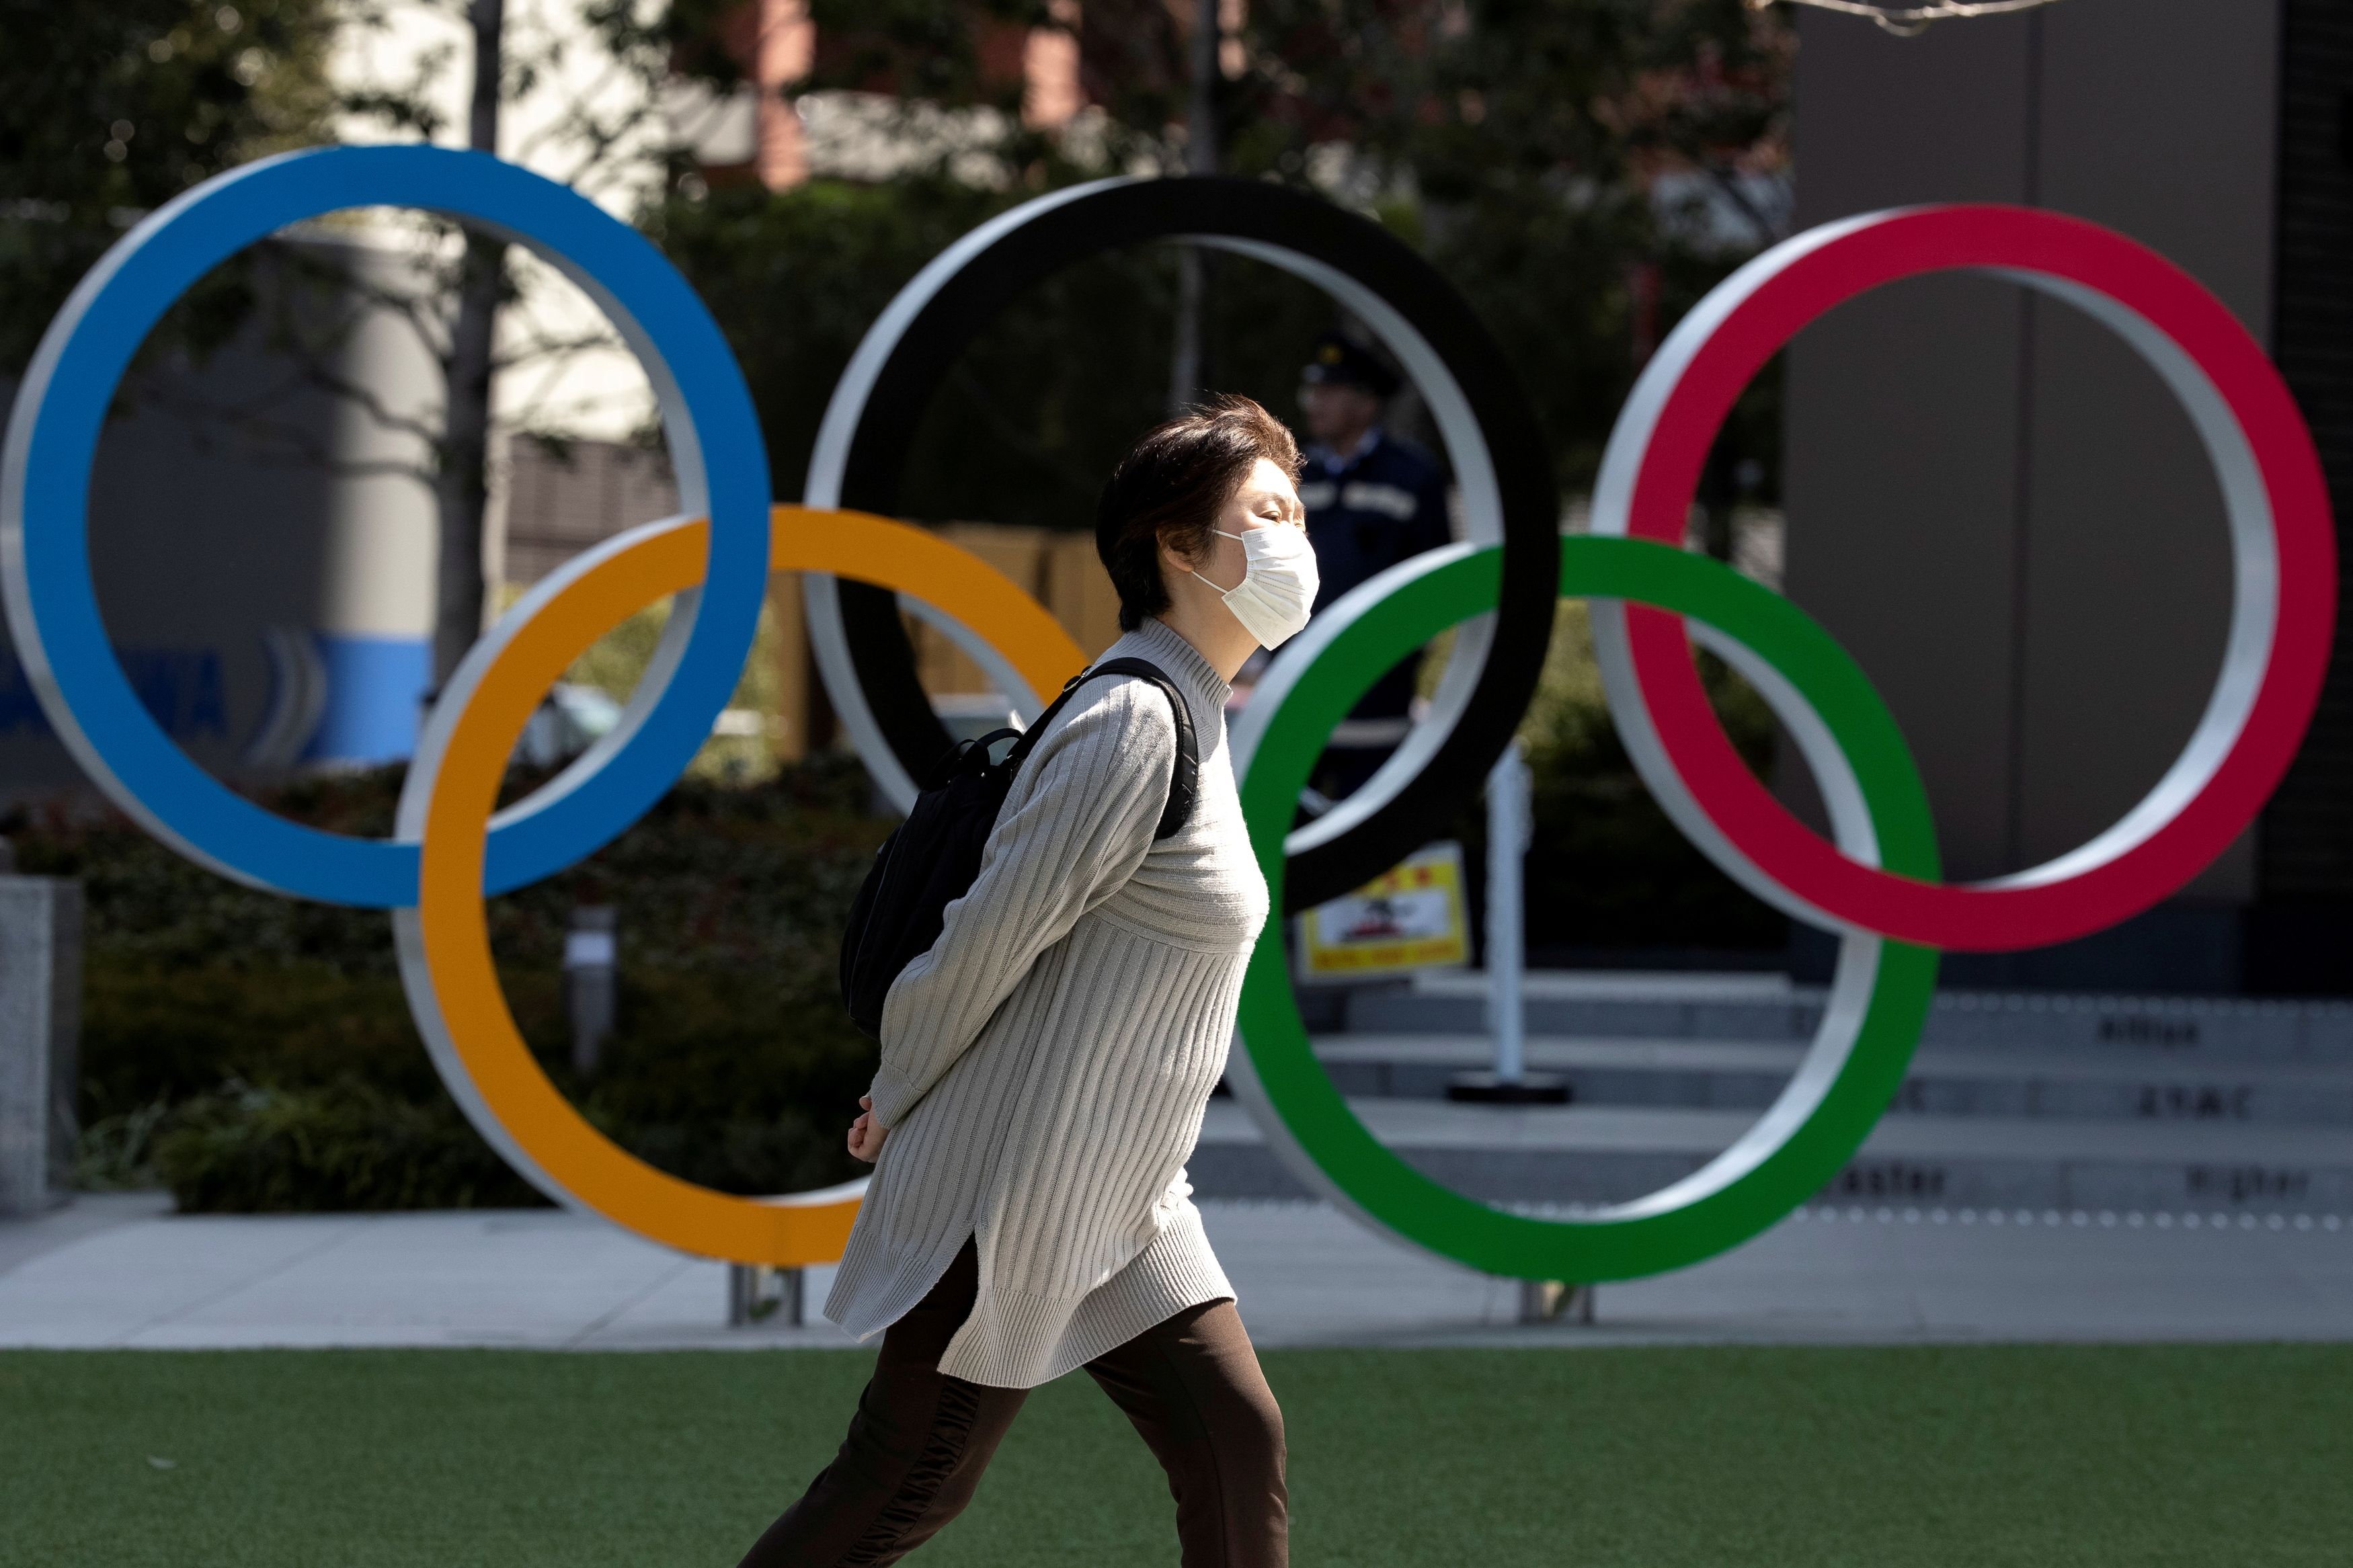with_mask: (1235, 466, 1320, 647)
